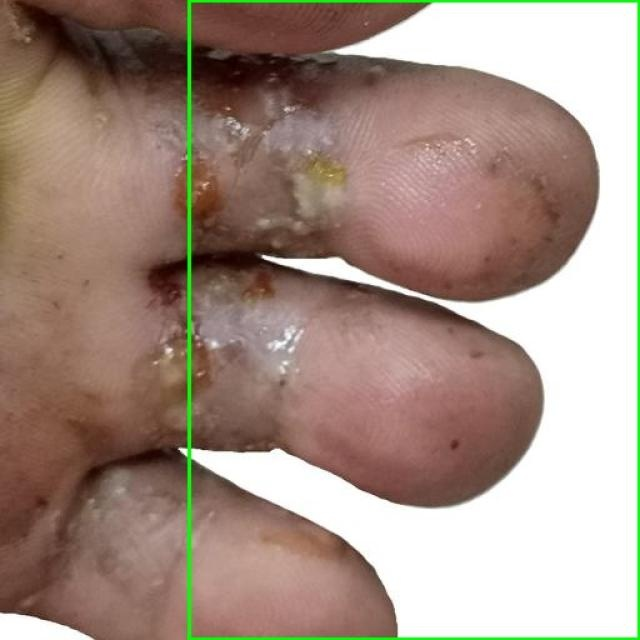Scabies: (189, 0, 639, 639)
